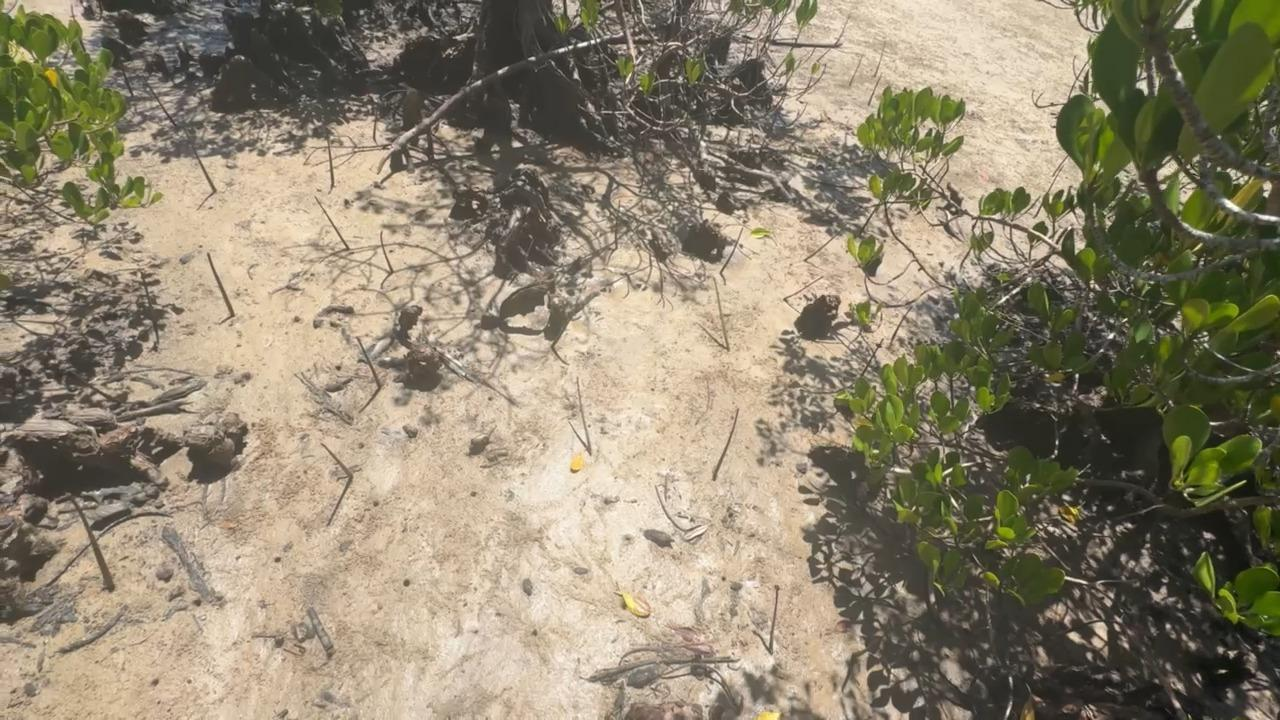Tree: (67, 495, 115, 592), (182, 125, 217, 193), (712, 408, 740, 482), (314, 196, 350, 250), (142, 75, 177, 127), (207, 252, 235, 316), (1032, 165, 1064, 219), (653, 485, 687, 532), (551, 295, 581, 348), (817, 16, 850, 61), (355, 336, 383, 389), (140, 271, 160, 343), (713, 277, 730, 352), (577, 376, 592, 456), (321, 443, 353, 479), (803, 231, 841, 261), (783, 276, 824, 302), (720, 228, 743, 274), (889, 307, 914, 348), (860, 339, 885, 378), (769, 584, 780, 655), (70, 4, 86, 52), (859, 204, 882, 237), (1013, 195, 1041, 221), (325, 127, 335, 188), (380, 230, 394, 273), (118, 61, 134, 96), (867, 72, 882, 107), (787, 102, 808, 126), (848, 55, 863, 86), (788, 127, 808, 150), (873, 42, 886, 77), (614, 200, 621, 248), (960, 247, 973, 272), (1052, 156, 1068, 176), (373, 109, 378, 141), (97, 0, 103, 19)
